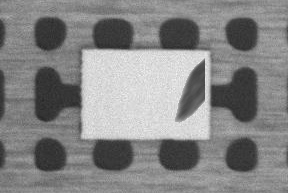DIE_INK: (175, 56, 205, 122)
